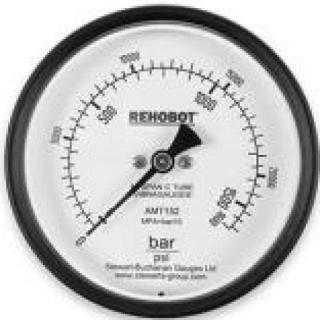gauge: (0, 0, 320, 320), (76, 208, 112, 248), (215, 209, 247, 245), (149, 149, 176, 176), (82, 228, 92, 240)
